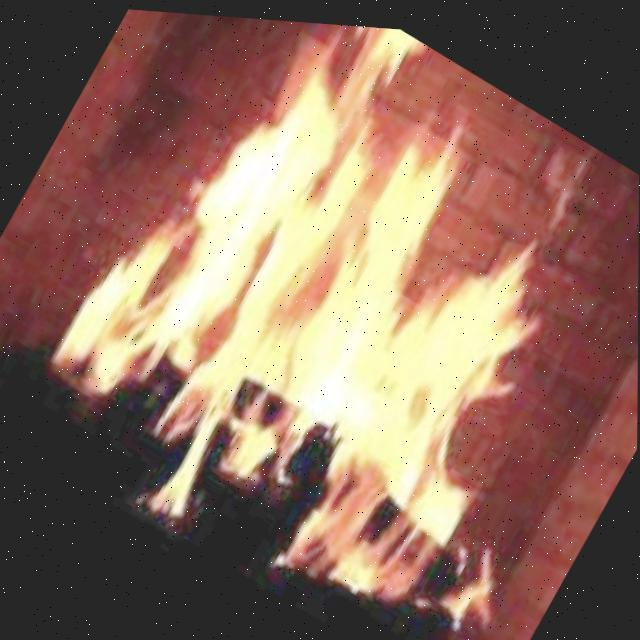Fire: (95, 6, 636, 593)
